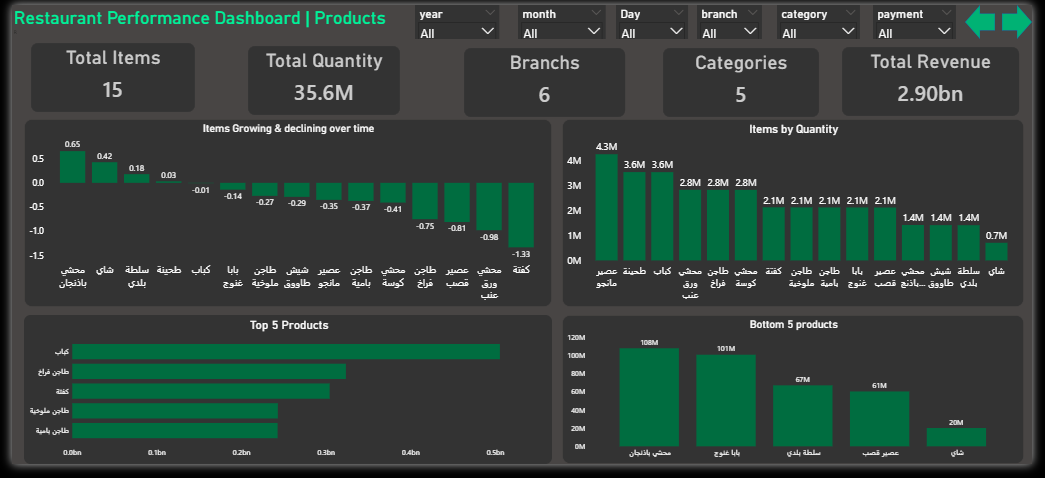

What the dashboard file says about the page in this screenshot:
{"tool":"powerbi","page":{"name":"Products","canvas":[3000,1350],"ordinal":2},"visuals":[{"type":"clusteredColumnChart","title":" Items by Quantity ","fields":{"Y":["Sum(restaurant_table.quantity)"],"Category":["restaurant_table.item_name"]},"box":[1617.6,335.3,1358.8,552.9],"z":0},{"type":"clusteredColumnChart","title":"Bottom 5  products ","fields":{"Y":["_Measures.total_revenue"],"Category":["restaurant_table.item_name"]},"box":[1617.6,911.8,1358.8,438.2],"z":1000},{"type":"clusteredColumnChart","title":"Items Growing & declining over time","fields":{"Category":["restaurant_table.item_name"],"Y":["_Measures.YoY item_Growth %"]},"box":[35.3,335.3,1552.9,552.9],"z":2000},{"type":"clusteredBarChart","title":"Top 5 Products","fields":{"Y":["_Measures.total_revenue"],"Category":["restaurant_table.item_name"]},"box":[35.3,911.8,1552.9,438.2],"z":3000},{"type":"cardVisual","title":"Branchs","fields":{"Data":["_Measures.branch"]},"box":[1329.4,126.5,473.5,202.9],"z":4000},{"type":"cardVisual","title":"Categories","fields":{"Data":["_Measures.Category"]},"box":[1914.7,126.5,458.8,202.9],"z":5000},{"type":"cardVisual","title":"Total Items","fields":{"Data":["_Measures.Total Items"]},"box":[55.9,111.8,482.4,202.9],"z":6000},{"type":"cardVisual","title":"Total Quantity","fields":{"Data":["_Measures.Total Quantity"]},"box":[694.1,120.6,447.1,202.9],"z":7000},{"type":"textbox","title":"Restaurant Performance Dashboard | Products","box":[0,6.1,1142.4,100],"z":8000},{"type":"slicer","fields":{"Values":["restaurant_table.year"]},"box":[1184.8,0,248.5,100],"z":9000},{"type":"slicer","fields":{"Values":["restaurant_table.month"]},"box":[1487.9,0,257.6,100],"z":10000},{"type":"slicer","fields":{"Values":["restaurant_table.day_name"]},"box":[1775.8,0,212.1,100],"z":11000},{"type":"slicer","fields":{"Values":["restaurant_table.branch"]},"box":[2015.2,0,190.9,100],"z":12000},{"type":"slicer","fields":{"Values":["restaurant_table.payment_method"]},"box":[2532.4,0,244.1,100],"z":13000},{"type":"slicer","fields":{"Values":["restaurant_table.category"]},"box":[2250,0,244.1,100],"z":14000},{"type":"shape","box":[2802.9,0,88.2,100],"z":15000},{"type":"shape","box":[2911.8,0,88.2,100],"z":16000},{"type":"cardVisual","title":"Total Revenue","fields":{"Data":["_Measures.total_revenue"]},"box":[2441.2,123.5,520.6,202.9],"z":17000}]}

Visuals, with their boxes in screenshot pixels (x1, y1, x2, y2), scaled from the page's 3000x1350 canvas onto the 1045x478 screenshot:
" Items by Quantity " clusteredColumnChart: (x1=563, y1=119, x2=1037, y2=314)
"Bottom 5  products " clusteredColumnChart: (x1=563, y1=323, x2=1037, y2=477)
"Items Growing & declining over time" clusteredColumnChart: (x1=12, y1=119, x2=553, y2=314)
"Top 5 Products" clusteredBarChart: (x1=12, y1=323, x2=553, y2=477)
"Branchs" cardVisual: (x1=463, y1=45, x2=628, y2=117)
"Categories" cardVisual: (x1=667, y1=45, x2=827, y2=117)
"Total Items" cardVisual: (x1=19, y1=40, x2=188, y2=111)
"Total Quantity" cardVisual: (x1=242, y1=43, x2=398, y2=115)
"Restaurant Performance Dashboard | Products" textbox: (x1=0, y1=2, x2=398, y2=38)
slicer - restaurant_table.year: (x1=413, y1=0, x2=499, y2=35)
slicer - restaurant_table.month: (x1=518, y1=0, x2=608, y2=35)
slicer - restaurant_table.day_name: (x1=619, y1=0, x2=692, y2=35)
slicer - restaurant_table.branch: (x1=702, y1=0, x2=768, y2=35)
slicer - restaurant_table.payment_method: (x1=882, y1=0, x2=967, y2=35)
slicer - restaurant_table.category: (x1=784, y1=0, x2=869, y2=35)
shape: (x1=976, y1=0, x2=1007, y2=35)
shape: (x1=1014, y1=0, x2=1044, y2=35)
"Total Revenue" cardVisual: (x1=850, y1=44, x2=1032, y2=116)
